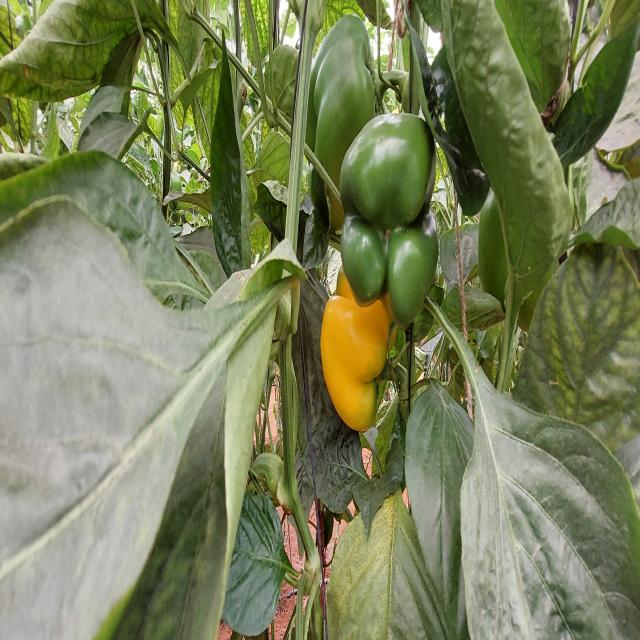Yellow-Ready-to-Harvest: (322, 264, 374, 428)
